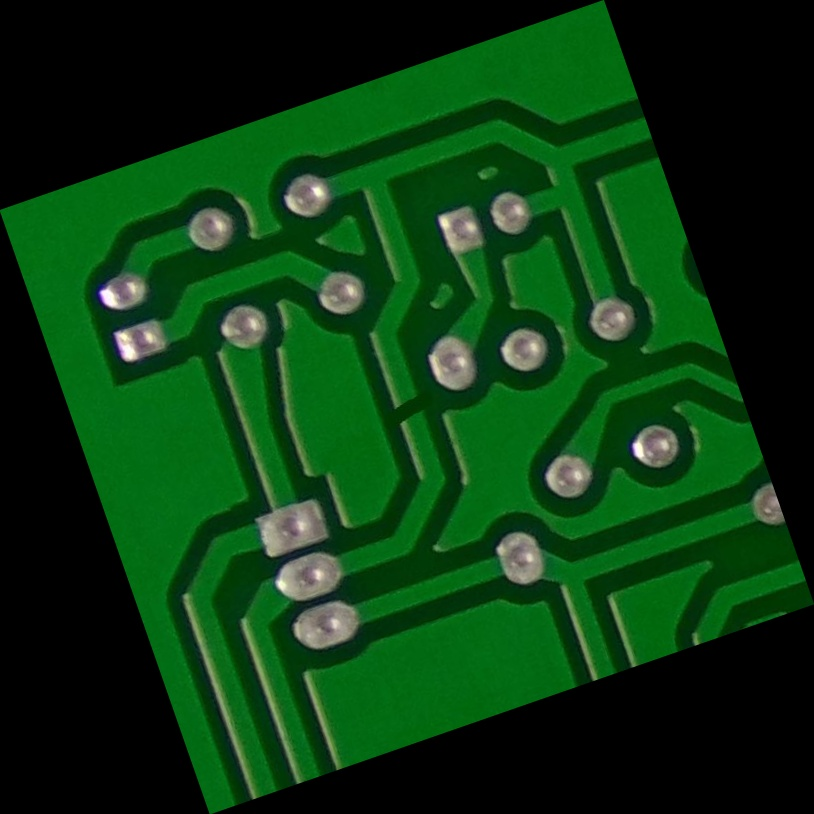open_circuit: (375, 376, 440, 438)
